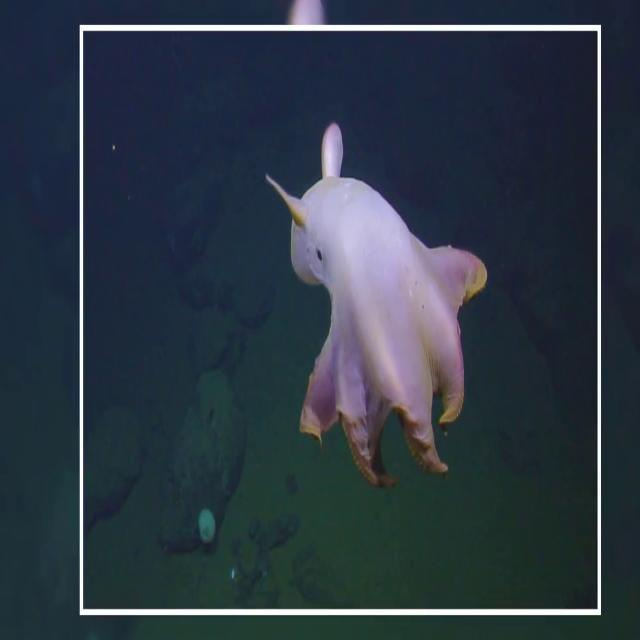octopus: (265, 122, 487, 490)
